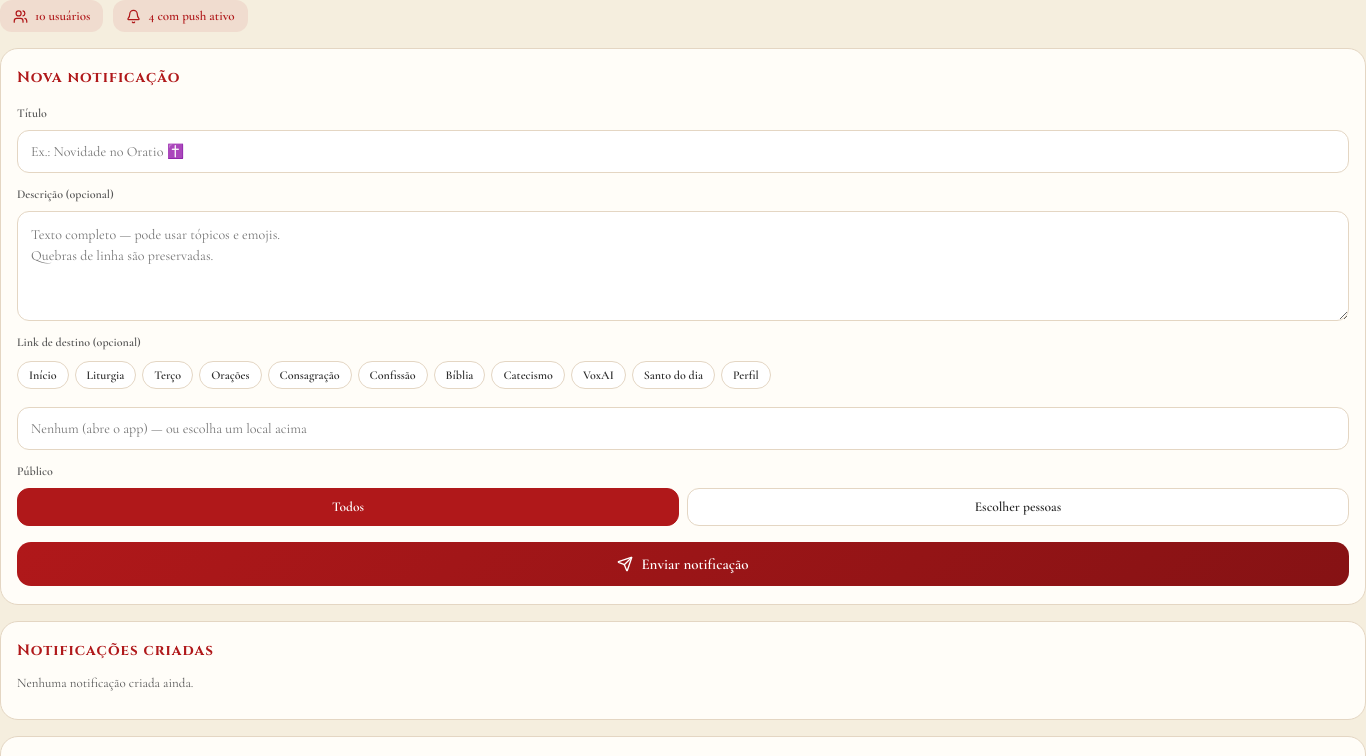
Scenario: AdminNotifications › blocks sending without a title
Click the button "Enviar notificação" at (683, 564), box [17,542,1349,586]
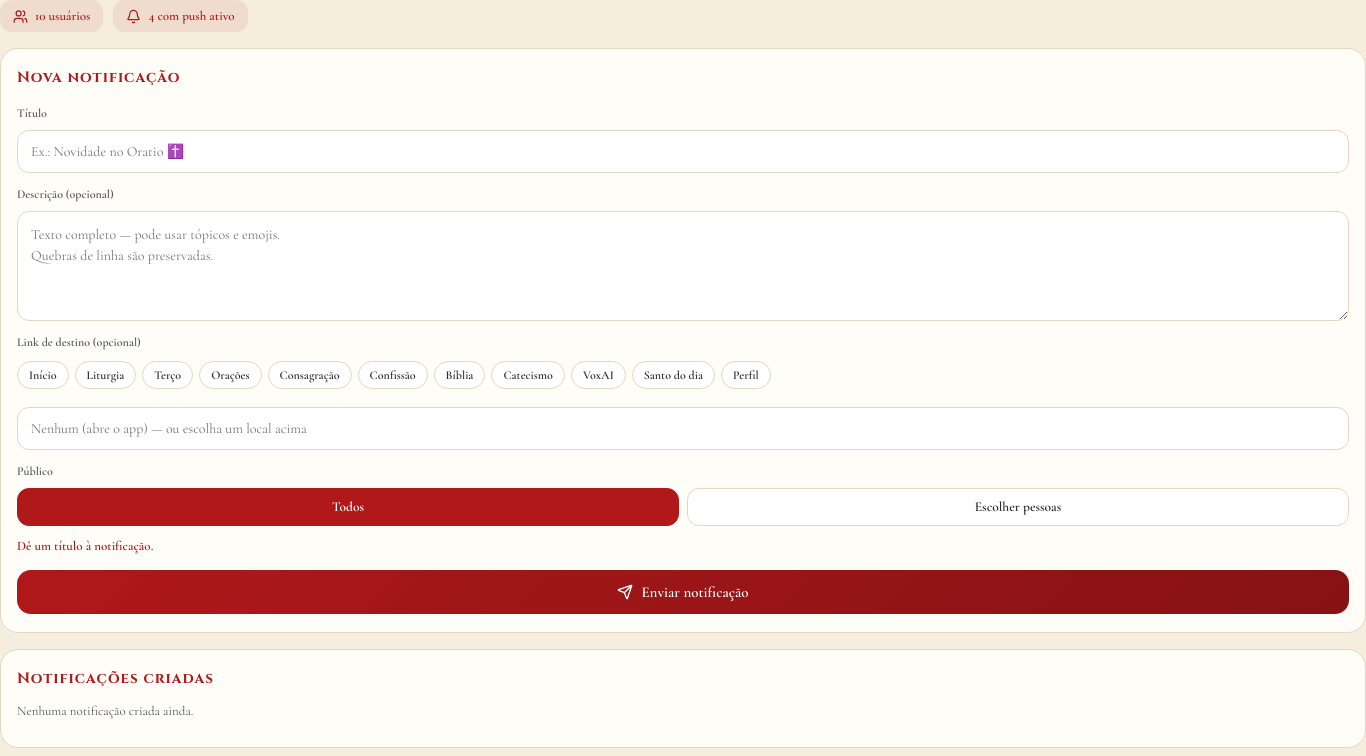
Expected: the text "Dê um título à notificação." is shown, [17,538,153,554]
